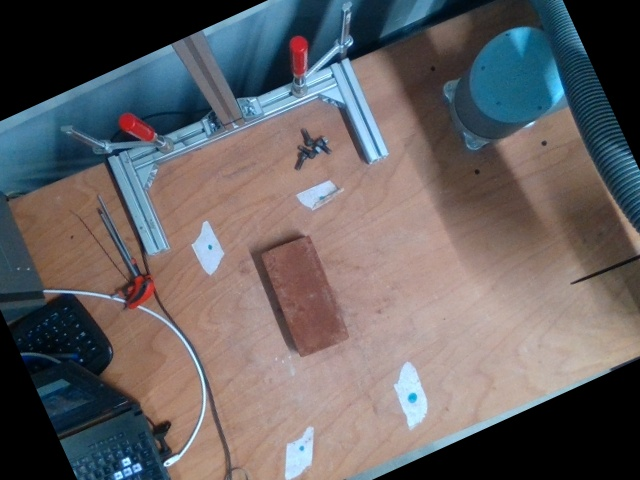brick: (260, 235, 346, 354)
